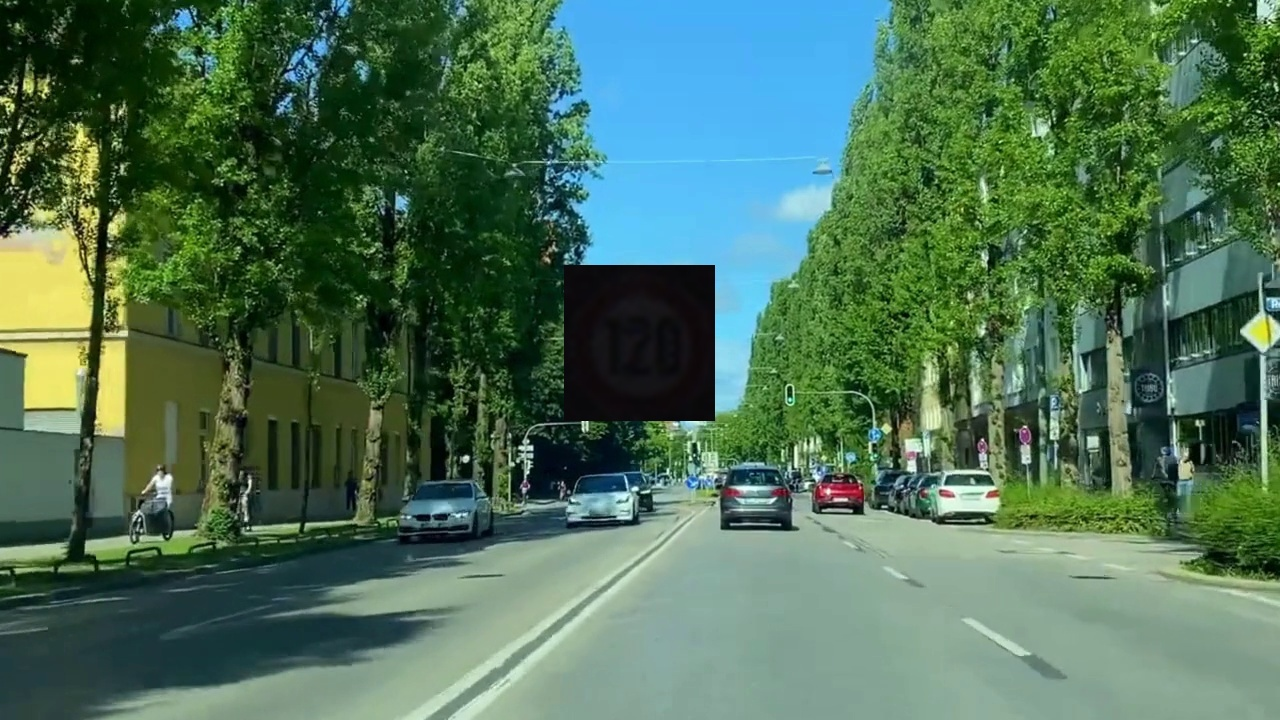Speed 120: (564, 265, 715, 421)
